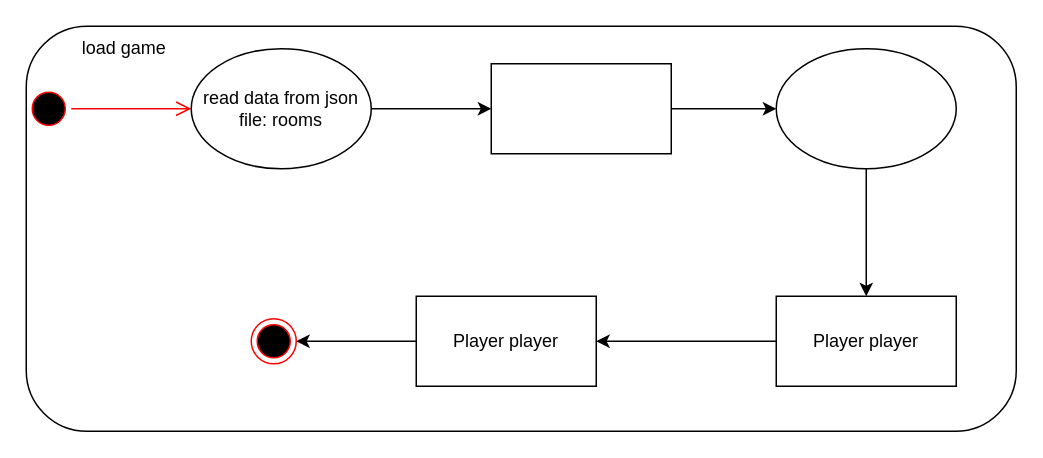
This 1043x458 diagram has some shape labels left out. The box of each missing label's shape, as (x1, y1, x2, y2) in pixels:
List<Room> rooms: (490, 62, 671, 154)
read data from json file: player: (775, 47, 956, 169)
